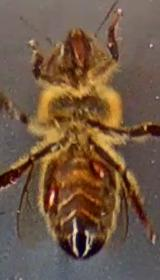varroa_mite: (40, 180, 66, 224), (82, 156, 114, 182)
